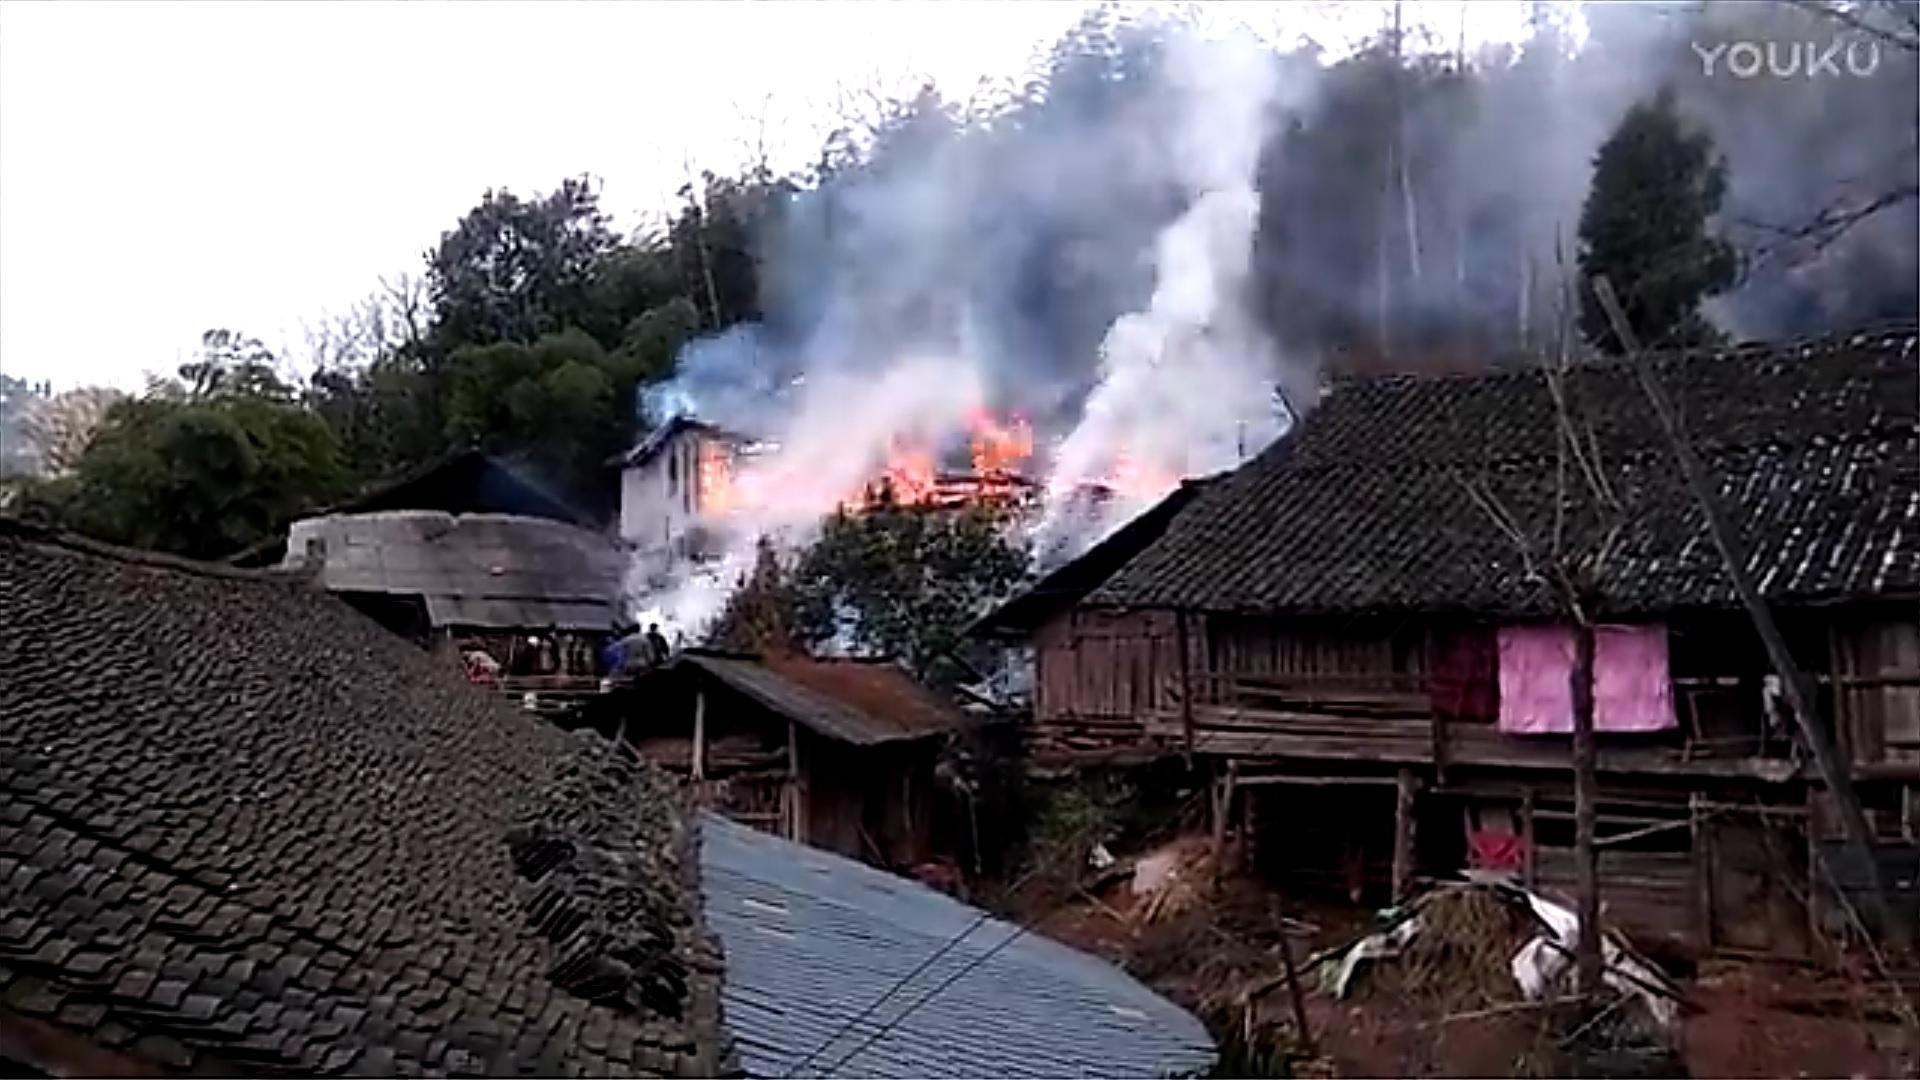fire: (865, 409, 1039, 504), (690, 436, 752, 514)
